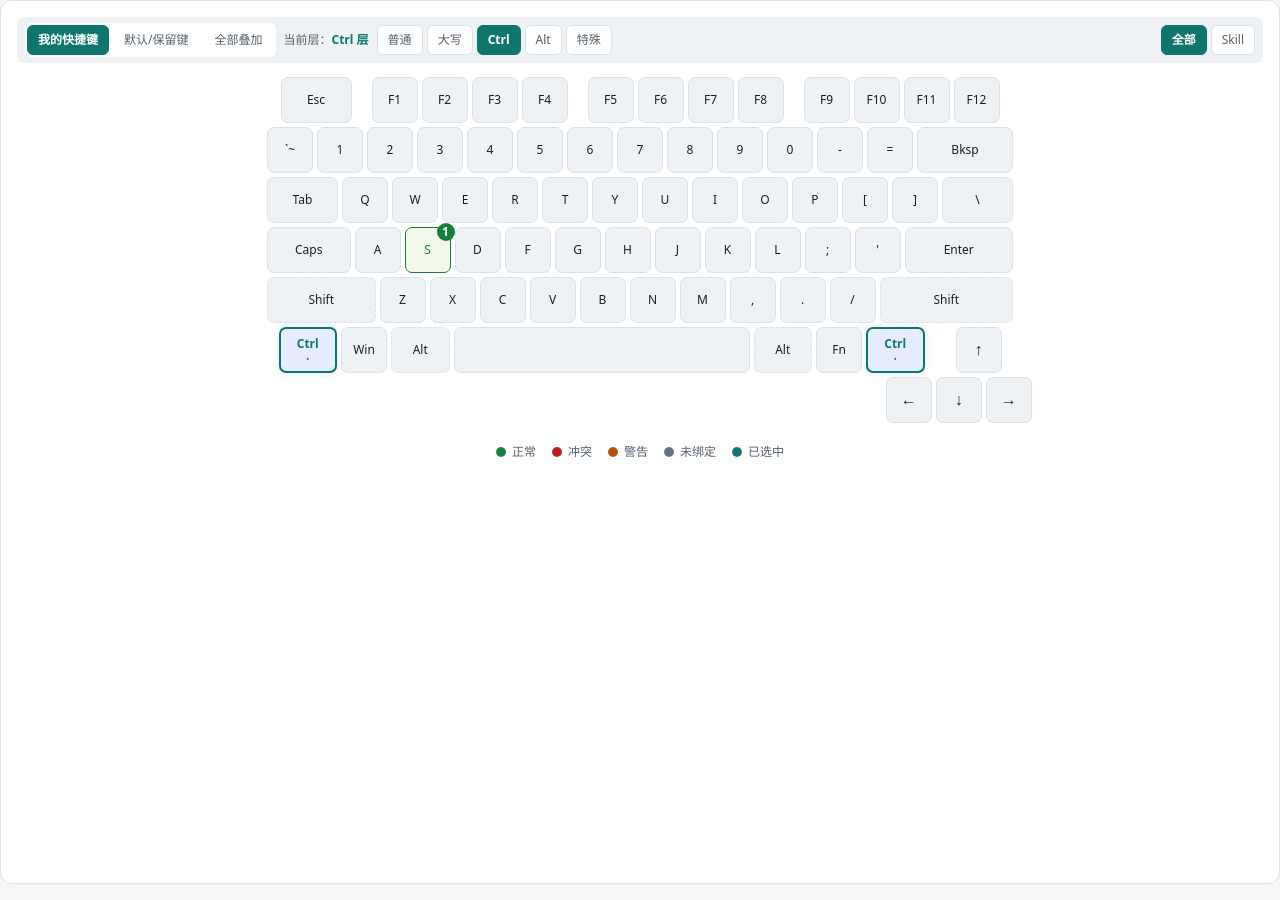
Test case: keyboard visualizer fixed typography › shows every binding inside the hover card when one key has multiple commands
This screenshot has width=1280, height=900.
Expected: the text "S" is shown, [424, 241, 431, 258]
Hover over the text "S" at x=428, y=250, box [404, 227, 450, 273]
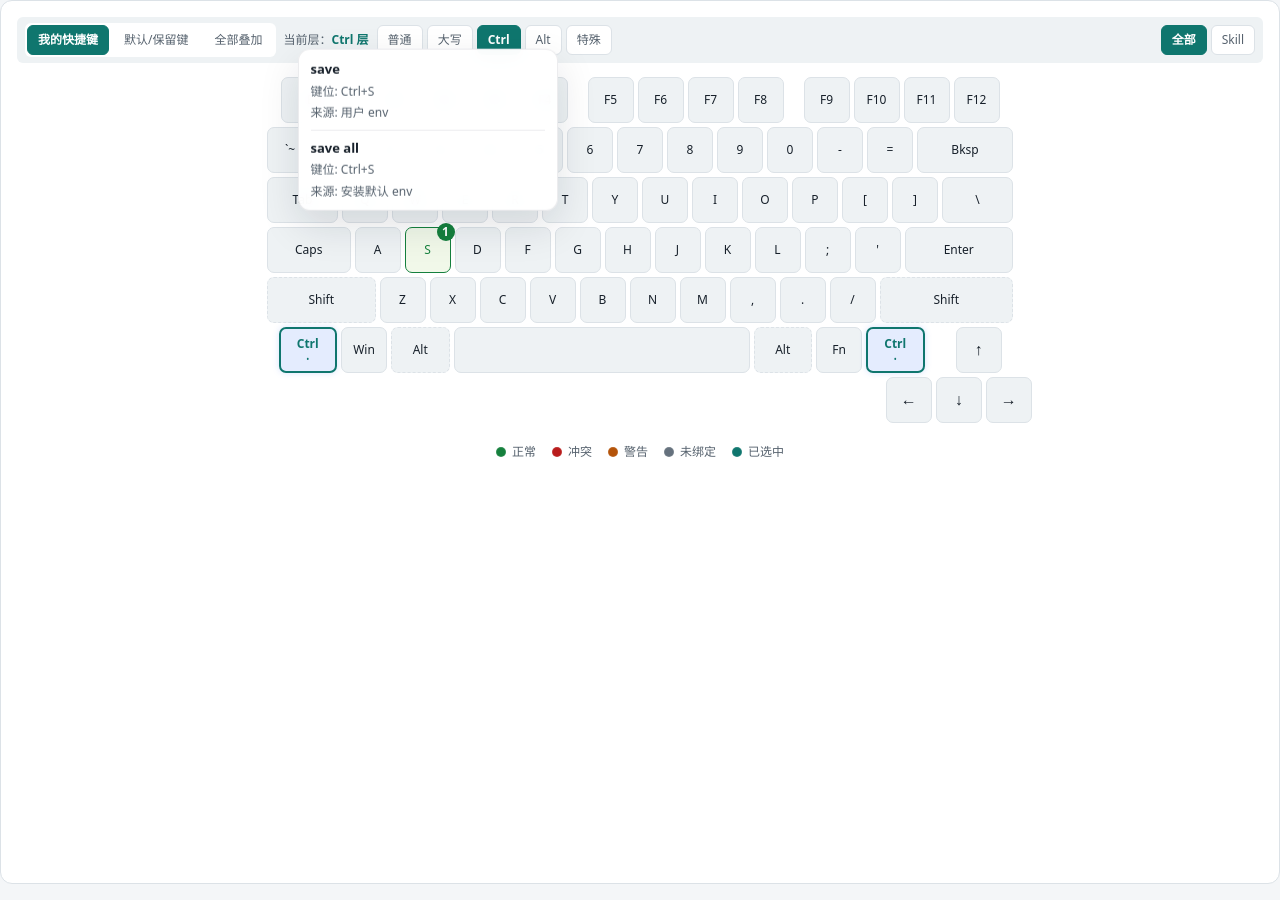
Expected: the text "save" is shown, [310, 60, 340, 78]
Expected: the text "save all" is shown, [310, 138, 359, 156]
Expected: the text "来源: 用户 env" is shown, [310, 104, 388, 121]
